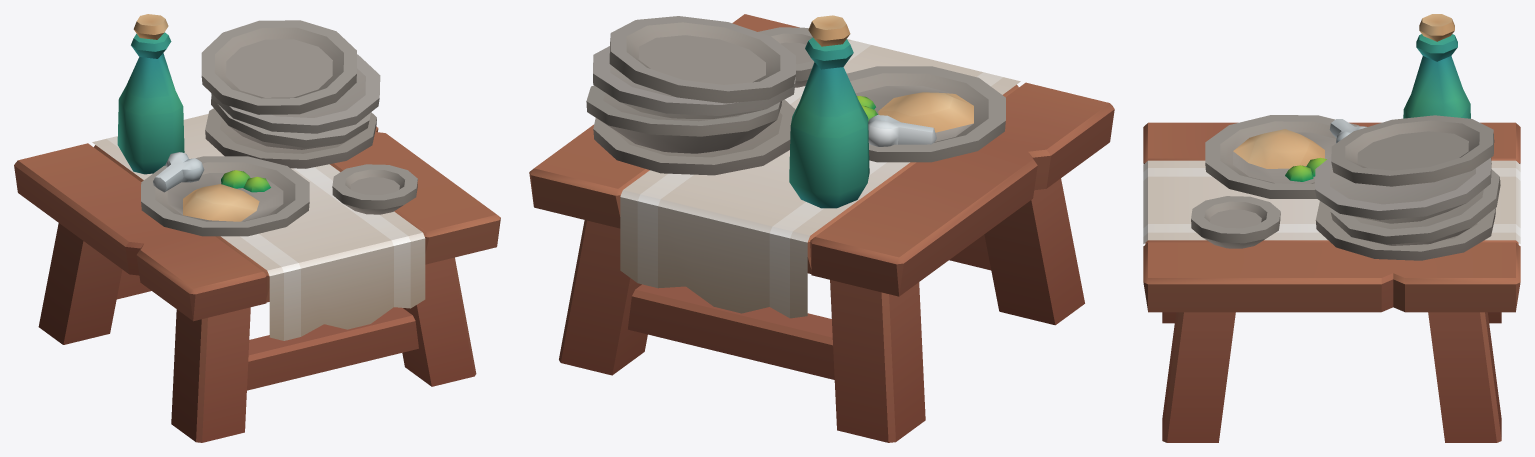
The model's file is table_medium_tablecloth_decorated_B.gltf.
3 views of the same model, side by side, from view 1: azimuth 30°, elevation 25°; view 2: azimuth 150°, elevation 25°; view 3: azimuth 270°, elevation 25° (orthographic). The views are drawn at different scales.
Parts seen in each view (by area): view 1: table_medium_tablecloth_decorated_B; view 2: table_medium_tablecloth_decorated_B; view 3: table_medium_tablecloth_decorated_B.
Boxes of the visible parts, x1,y1,x2,y2 form: table_medium_tablecloth_decorated_B: [14, 14, 500, 442]; table_medium_tablecloth_decorated_B: [529, 14, 1114, 442]; table_medium_tablecloth_decorated_B: [1143, 14, 1520, 442].
Bounding box in the file's own units: 2 × 1.89 × 2.
Materials: 1 (1 with a texture image).
